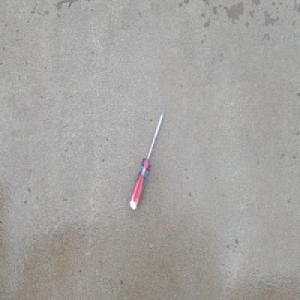Screwdriver: (129, 104, 167, 211)
